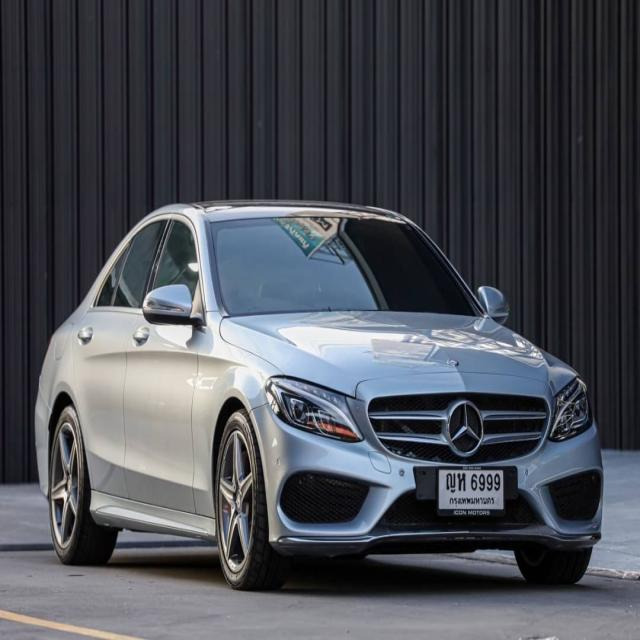license_plate: (436, 464, 506, 520)
